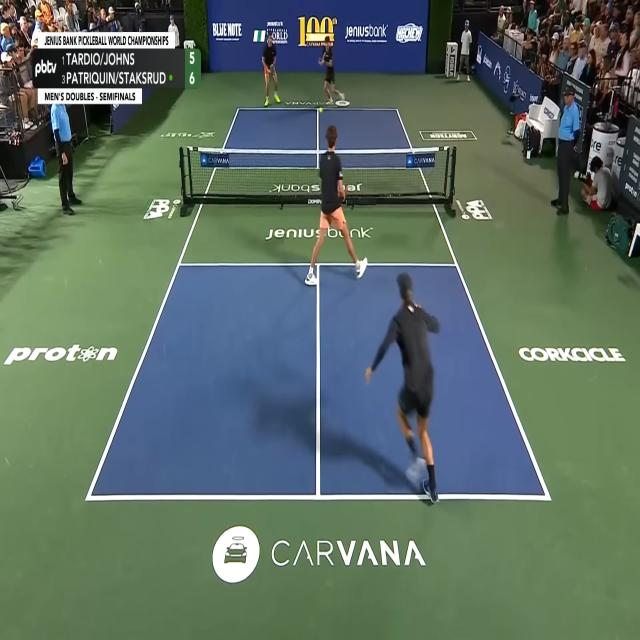ball: (320, 106, 323, 113)
